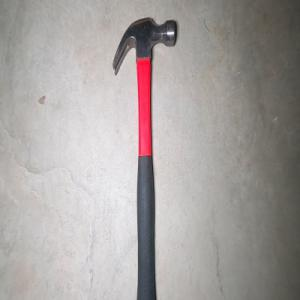Hammer: (111, 16, 176, 300)
